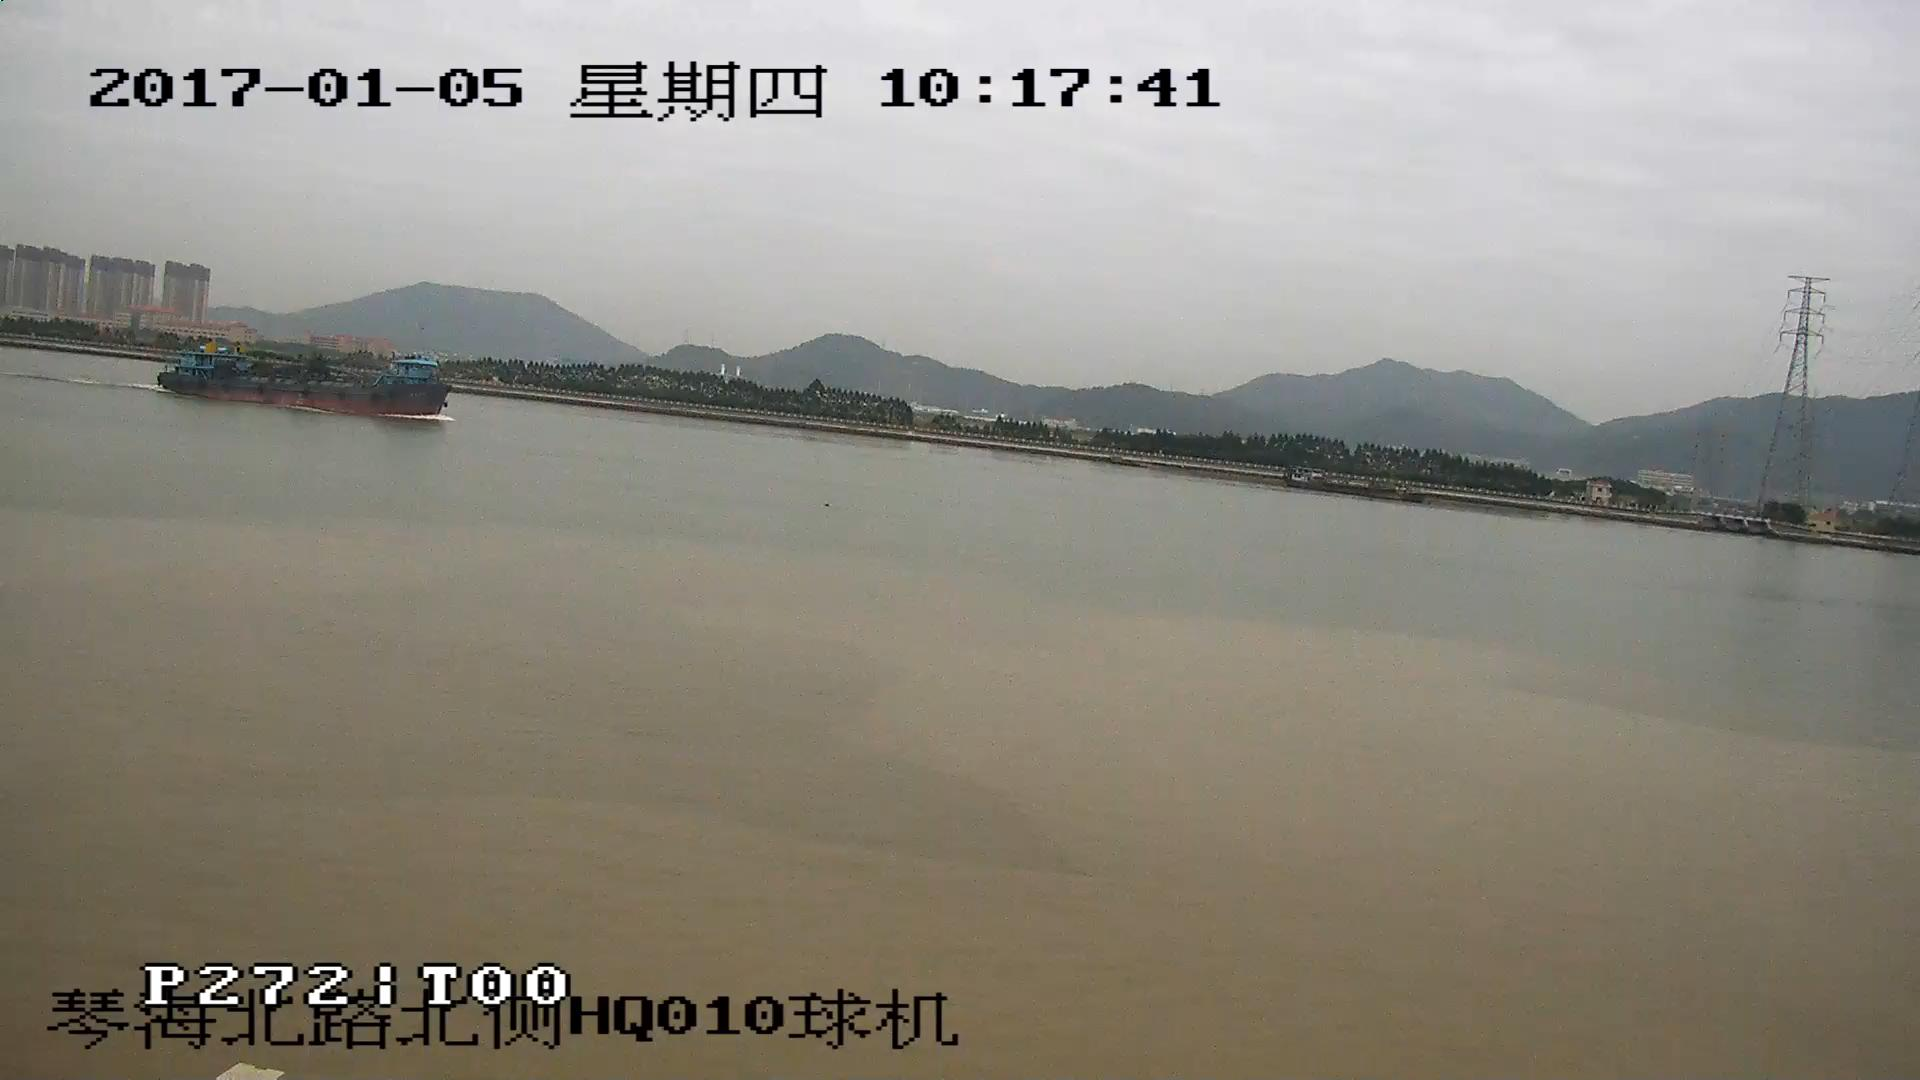bulk cargo carrier: (162, 341, 450, 421)
